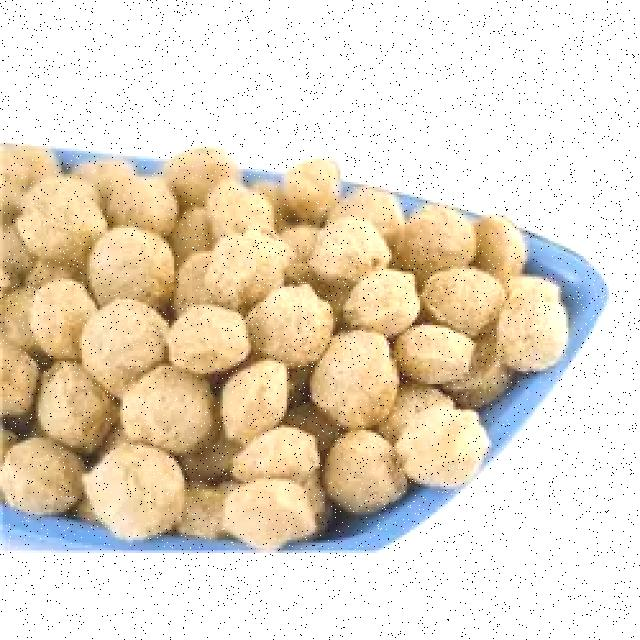Soy Chunks: (32, 177, 454, 515)
